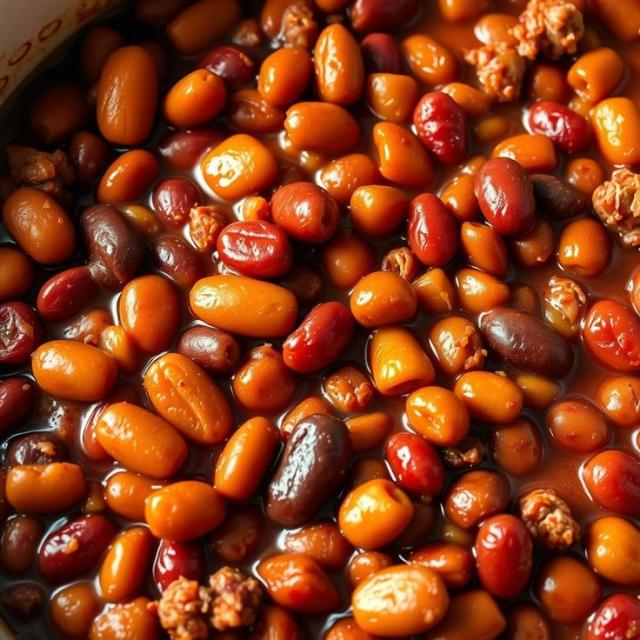beans: (266, 414, 351, 527), (144, 354, 233, 446), (352, 565, 448, 636), (96, 403, 186, 478), (190, 275, 298, 337), (480, 308, 573, 378), (97, 46, 158, 146), (3, 187, 75, 265), (214, 417, 279, 499), (80, 205, 143, 288), (32, 340, 117, 401), (339, 479, 413, 549), (39, 515, 115, 583), (283, 301, 353, 373), (256, 554, 340, 613), (202, 134, 277, 200), (145, 480, 226, 541), (475, 514, 532, 599), (119, 275, 179, 353), (475, 158, 535, 235), (534, 556, 601, 624), (232, 344, 298, 413), (369, 327, 435, 395), (217, 220, 293, 278), (271, 182, 339, 243), (583, 300, 639, 373), (167, 0, 241, 55), (99, 527, 153, 602), (314, 24, 363, 105), (426, 590, 506, 639), (374, 122, 433, 188), (414, 92, 467, 165), (444, 471, 510, 529), (406, 387, 470, 446), (285, 102, 359, 153), (582, 450, 639, 516), (350, 271, 417, 327), (585, 517, 639, 586), (163, 69, 226, 128), (407, 194, 458, 266), (454, 371, 522, 424), (30, 84, 89, 144), (386, 433, 444, 494), (430, 316, 486, 377), (97, 149, 159, 204), (547, 399, 610, 453), (208, 505, 265, 563), (567, 47, 624, 104), (284, 522, 353, 569), (37, 267, 97, 321), (529, 100, 590, 153), (591, 97, 639, 164), (320, 232, 375, 290), (490, 417, 543, 475), (320, 154, 379, 206), (558, 219, 611, 276), (401, 34, 459, 86), (350, 186, 408, 237), (178, 327, 239, 375), (409, 543, 473, 588), (89, 598, 159, 639), (50, 582, 100, 639), (159, 127, 224, 170), (104, 472, 162, 520), (150, 237, 204, 287), (0, 302, 43, 364), (153, 540, 205, 591), (80, 26, 124, 85), (460, 222, 507, 277), (532, 174, 588, 220), (227, 89, 285, 133), (366, 74, 418, 123), (0, 516, 44, 573), (493, 134, 557, 172), (456, 268, 510, 313), (152, 178, 200, 228), (586, 594, 639, 639), (280, 396, 334, 440), (323, 366, 373, 413), (199, 45, 255, 86), (594, 376, 639, 427), (350, 0, 418, 32), (590, 0, 639, 41), (345, 411, 394, 452), (0, 377, 35, 433), (188, 206, 227, 254), (64, 307, 113, 345), (99, 326, 138, 373), (0, 247, 33, 302), (280, 264, 323, 306), (527, 63, 571, 104), (441, 174, 479, 221), (440, 83, 492, 117), (251, 606, 303, 639), (360, 33, 402, 73), (347, 552, 393, 588), (506, 605, 552, 639), (565, 158, 604, 198), (443, 434, 485, 470), (346, 457, 391, 490), (474, 14, 518, 46), (382, 247, 419, 282), (323, 617, 373, 639), (439, 0, 490, 21), (512, 285, 539, 316), (240, 196, 270, 221), (625, 269, 640, 314)
